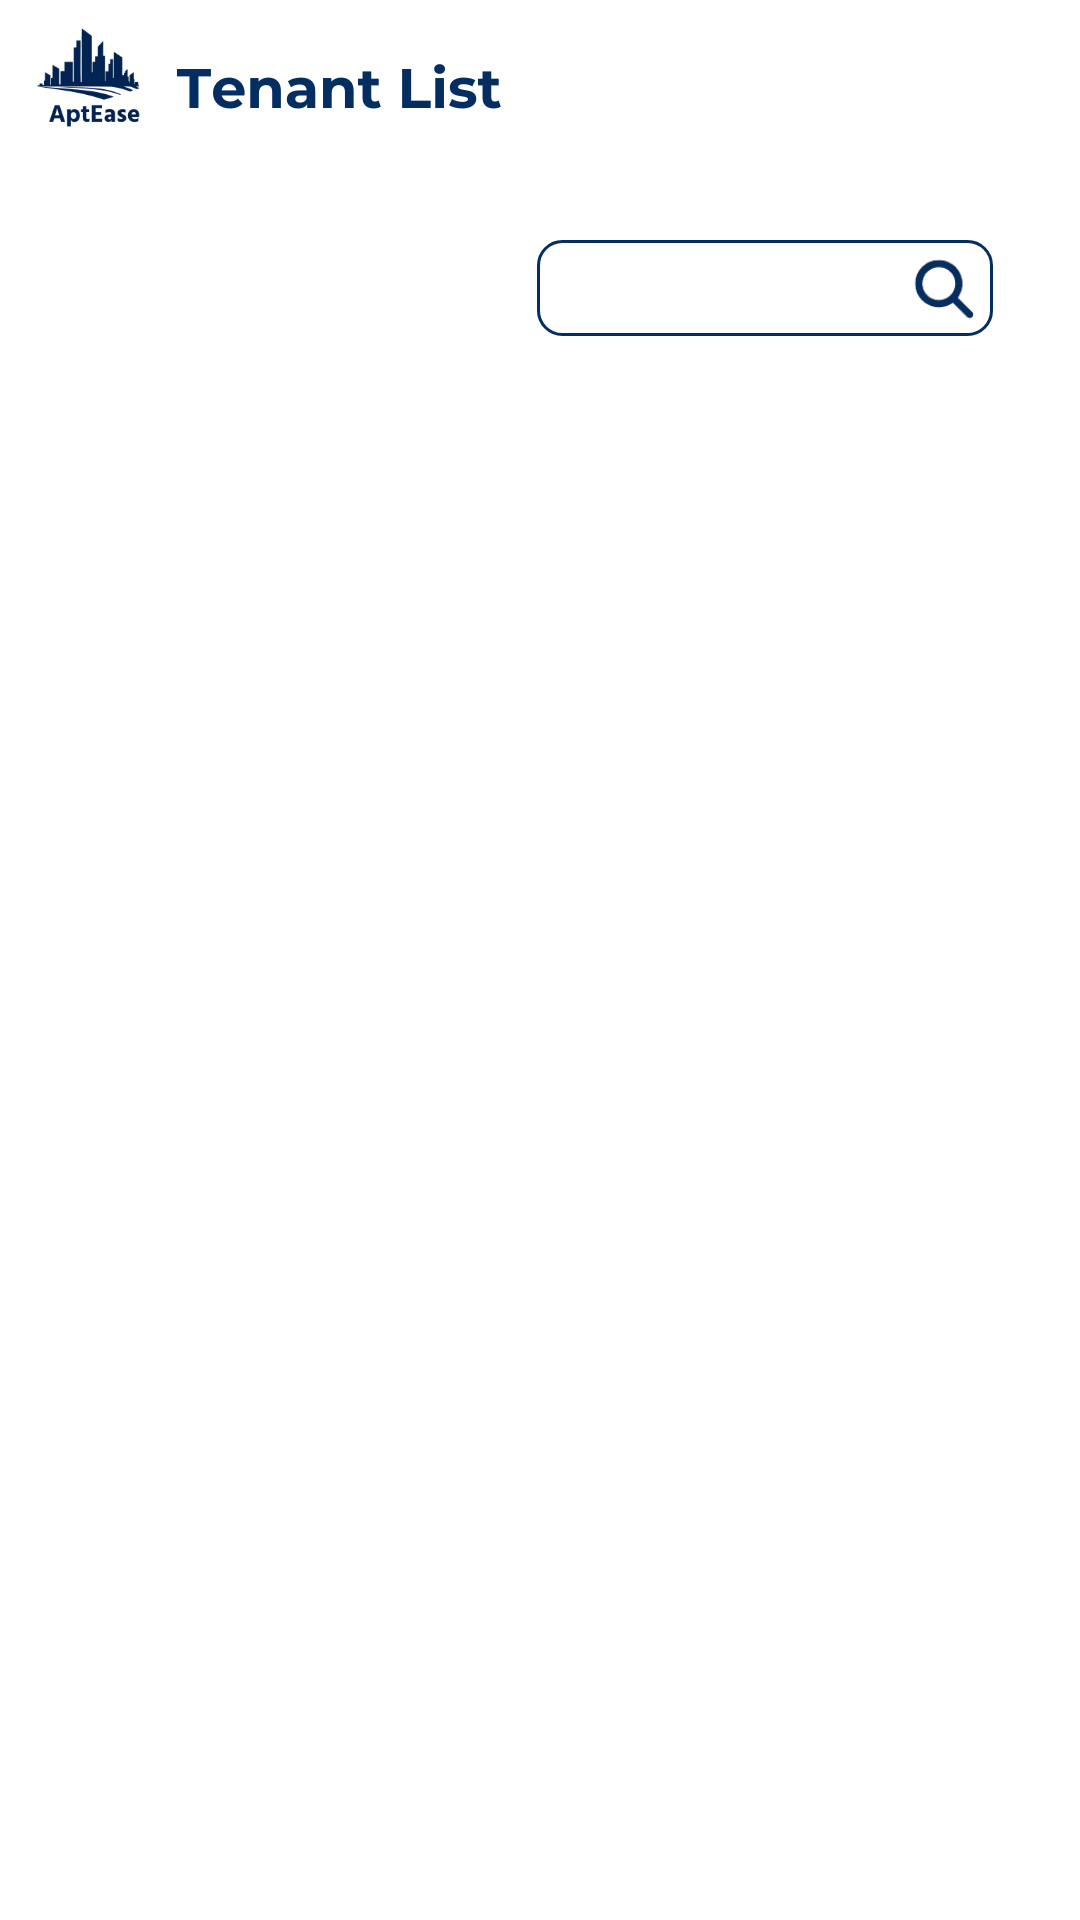

Named icons in this screenshot (1080 x 1920) and their bounding boxes, (x1, y1, x2, y2):
searchicon: (915, 259, 974, 319)
